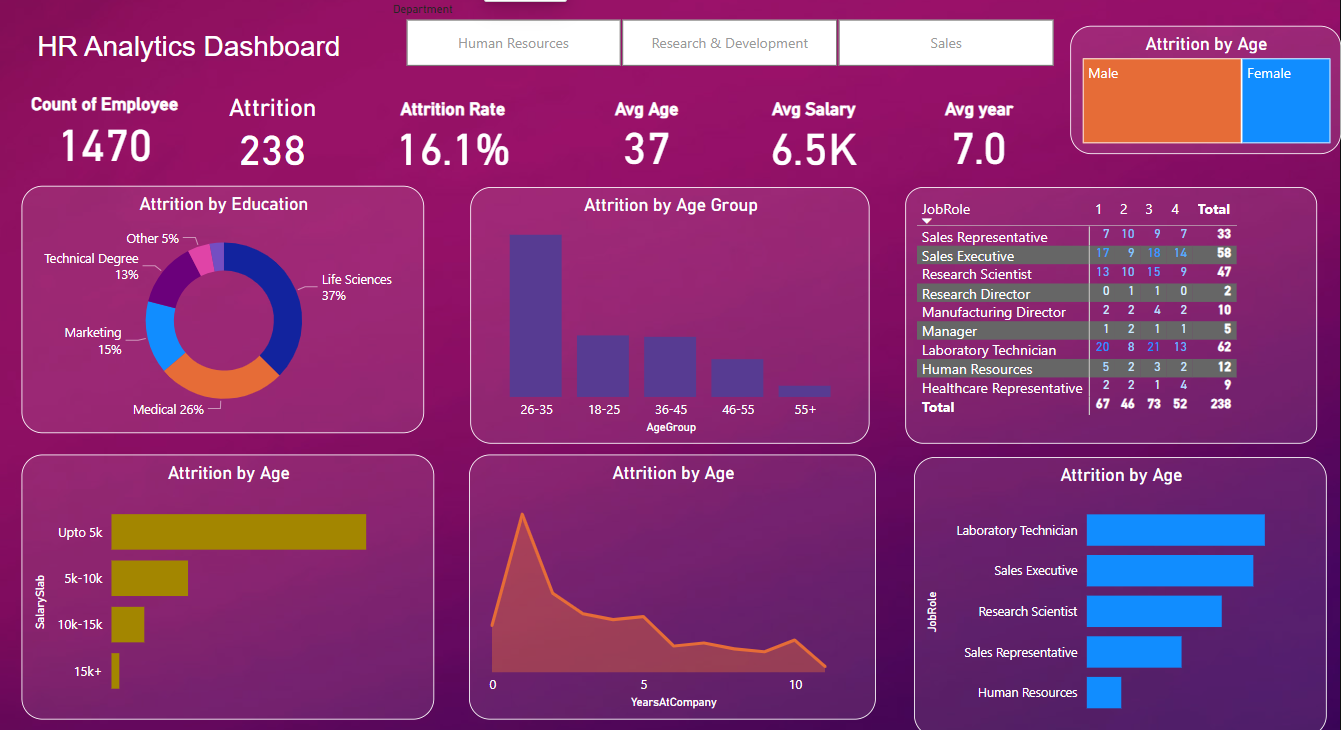

What the dashboard file says about the page in this screenshot:
{"tool":"powerbi","page":{"name":"Page 1","canvas":[1280,720],"ordinal":0},"visuals":[{"type":"card","title":"Count of Employee","fields":{"Values":["Count(HR_Analytics.EmpID)"]},"box":[22,92,159,72],"z":0},{"type":"card","title":"Attrition ","fields":{"Values":["Sum(HR_Analytics.AttritionCount)"]},"box":[181,92,159,74],"z":1000},{"type":"card","title":"Attrition Rate","fields":{"Values":["HR_Analytics.AttritionRate"]},"box":[353,97,160,69],"z":2000},{"type":"card","title":"Avg Age","fields":{"Values":["Avg(HR_Analytics.Age)"]},"box":[529,96,177,68],"z":3000},{"type":"card","title":"Avg year","fields":{"Values":["Avg(HR_Analytics.YearsAtCompany)"]},"box":[848,96.1,174.3,68.6],"z":4000},{"type":"card","title":"Avg Salary","fields":{"Values":["Avg(HR_Analytics.MonthlyIncome)"]},"box":[689,96,176,69],"z":5000},{"type":"donutChart","title":"Attrition by Education","fields":{"Category":["HR_Analytics.EducationField"],"Y":["Sum(HR_Analytics.AttritionCount)"]},"box":[22,180,384,236],"z":6000},{"type":"columnChart","title":"Attrition by Age Group","fields":{"Category":["HR_Analytics.AgeGroup"],"Y":["Sum(HR_Analytics.AttritionCount)"]},"box":[449,181,381,245],"z":7000},{"type":"pivotTable","fields":{"Rows":["HR_Analytics.JobRole"],"Columns":["HR_Analytics.JobSatisfaction"],"Values":["Sum(HR_Analytics.AttritionCount)"]},"box":[864.7,180.9,393.2,244.8],"z":8000},{"type":"clusteredBarChart","title":"Attrition by Age","fields":{"Category":["HR_Analytics.SalarySlab"],"Y":["Sum(HR_Analytics.AttritionCount)"]},"box":[22,436.4,393.8,252.5],"z":9000},{"type":"clusteredBarChart","title":"Attrition by Age","fields":{"Y":["Sum(HR_Analytics.AttritionCount)"],"Category":["HR_Analytics.JobRole"]},"box":[872.7,439.1,393.8,266.2],"z":10000},{"type":"areaChart","title":"Attrition by Age","fields":{"Category":["HR_Analytics.YearsAtCompany"],"Y":["Sum(HR_Analytics.AttritionCount)"]},"box":[448.7,436.4,388.3,252.5],"z":11000},{"type":"treemap","title":"Attrition by Age","fields":{"Group":["HR_Analytics.Gender"],"Values":["Sum(HR_Analytics.AttritionCount)"]},"box":[1022,27,258,122],"z":12000},{"type":"slicer","fields":{"Values":["HR_Analytics.Department"]},"box":[362.3,0,666.9,72.7],"z":13000},{"type":"textbox","box":[0,27,362,51],"z":14000}]}

Visuals, with their boxes on the page's 1280x720 design canvas (x1, y1, x2, y2). These are canvas units, not pixel positions in the 1341x730 screenshot, which may show the page scaled, cropped or inside an application window:
"Count of Employee" card: box(22, 92, 181, 164)
"Attrition " card: box(181, 92, 340, 166)
"Attrition Rate" card: box(353, 97, 513, 166)
"Avg Age" card: box(529, 96, 706, 164)
"Avg year" card: box(848, 96, 1022, 165)
"Avg Salary" card: box(689, 96, 865, 165)
"Attrition by Education" donutChart: box(22, 180, 406, 416)
"Attrition by Age Group" columnChart: box(449, 181, 830, 426)
pivotTable - HR_Analytics.JobRole x HR_Analytics.JobSatisfaction: box(865, 181, 1258, 426)
"Attrition by Age" clusteredBarChart: box(22, 436, 416, 689)
"Attrition by Age" clusteredBarChart: box(873, 439, 1266, 705)
"Attrition by Age" areaChart: box(449, 436, 837, 689)
"Attrition by Age" treemap: box(1022, 27, 1280, 149)
slicer - HR_Analytics.Department: box(362, 0, 1029, 73)
textbox: box(0, 27, 362, 78)
